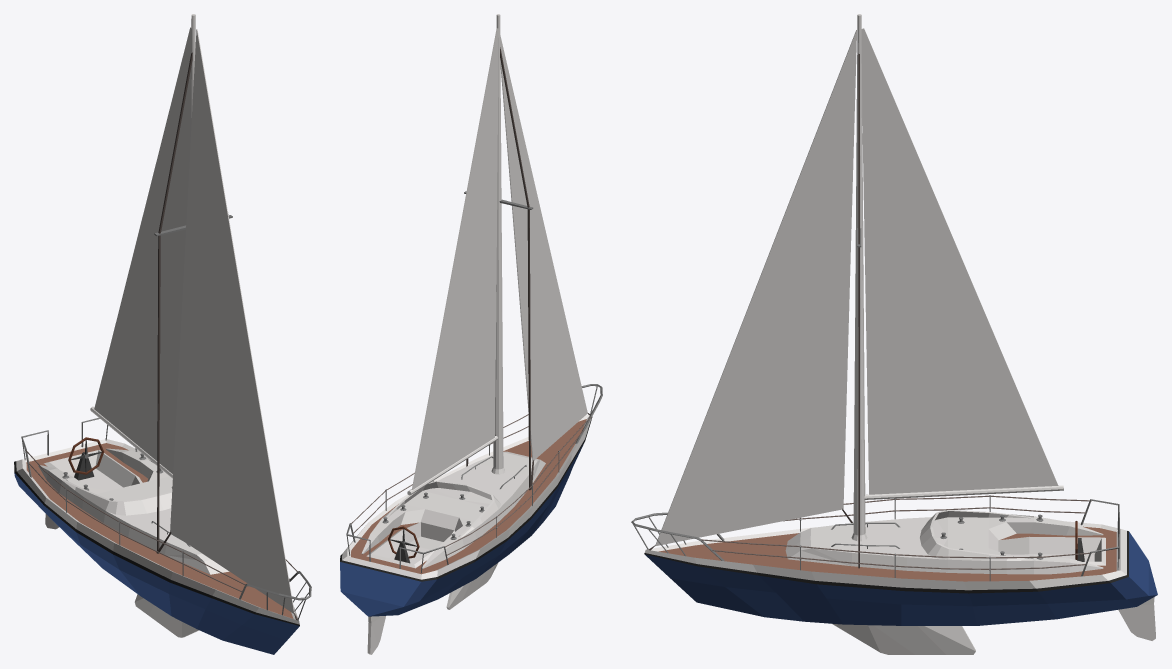
File: Sailboat A.fbx
3 views of the same model, side by side, from view 1: azimuth 30°, elevation 25°; view 2: azimuth 150°, elevation 25°; view 3: azimuth 270°, elevation 25° (orthographic). The views are drawn at different scales.
Visible parts, largest first — view 1: Sailboat A; view 2: Sailboat A; view 3: Sailboat A.
Part boxes in pixels (x1,y1,x2,y2): Sailboat A: (14, 14, 311, 654); Sailboat A: (340, 14, 602, 654); Sailboat A: (631, 14, 1157, 654).
Bounding box in the file's own units: 454 × 2119 × 1583.
